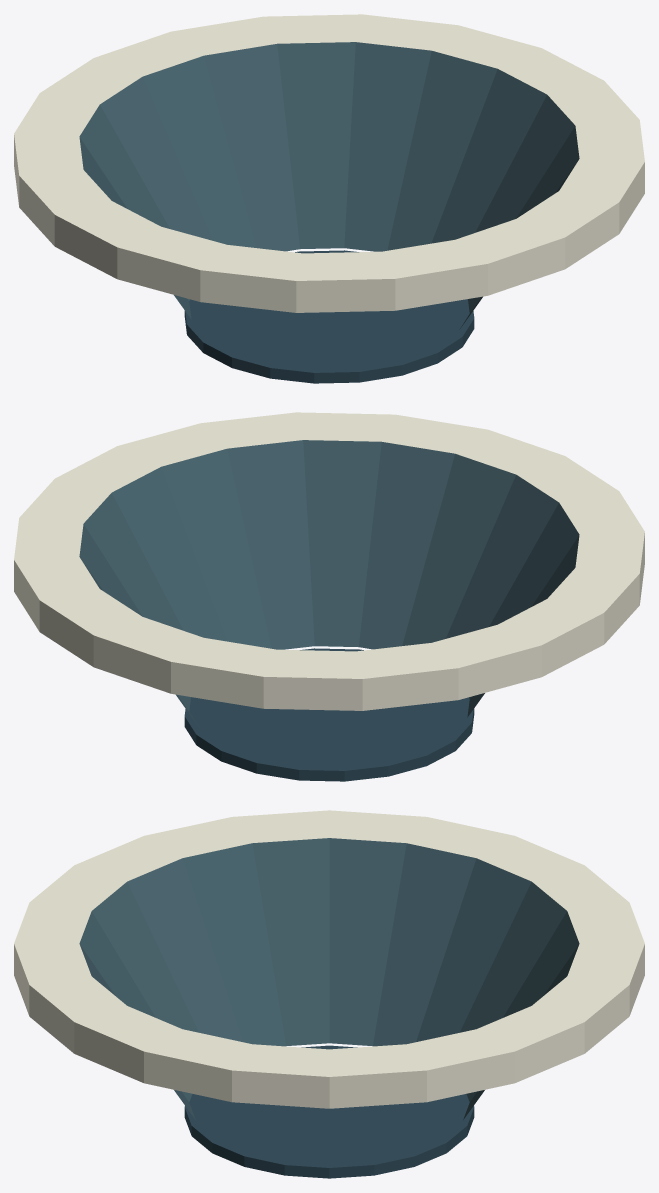
The model's file is snow-hole.glb.
3 renders of one model, top to bottom at view 1: azimuth 30°, elevation 25°; view 2: azimuth 150°, elevation 25°; view 3: azimuth 270°, elevation 25°, orthographic.
Parts seen in each view (by area): view 1: recessed-hole; view 2: recessed-hole; view 3: recessed-hole.
Part boxes in pixels (x1=…): recessed-hole: x1=14, y1=14, x2=644, y2=383; recessed-hole: x1=14, y1=412, x2=644, y2=781; recessed-hole: x1=14, y1=810, x2=644, y2=1178.
Bounding box in the file's own units: 2.7 × 0.82 × 2.7.
